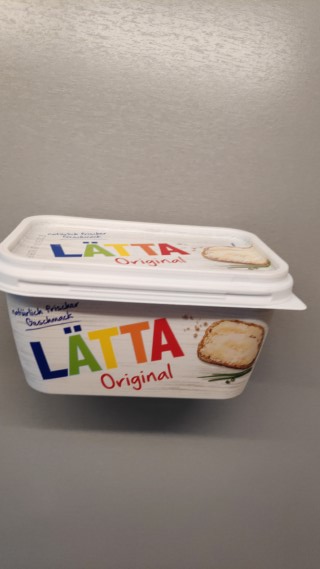laetta: (1, 213, 307, 399)
